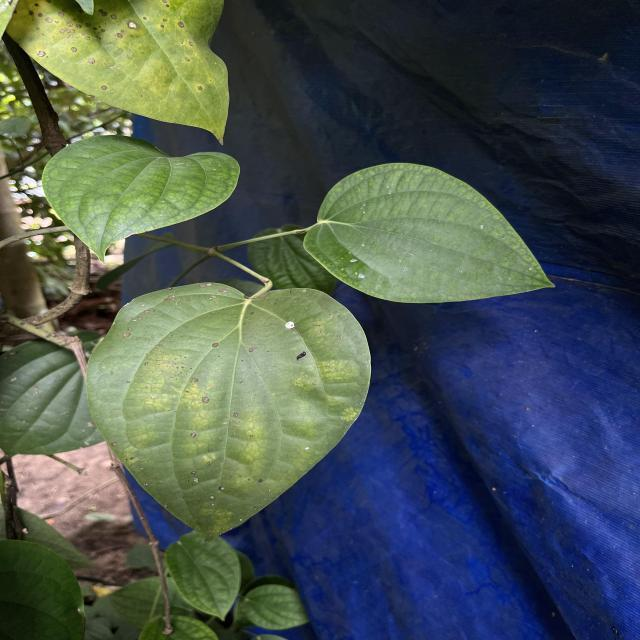Piper nigrum: (84, 281, 373, 544), (302, 162, 560, 304), (39, 134, 242, 266)
